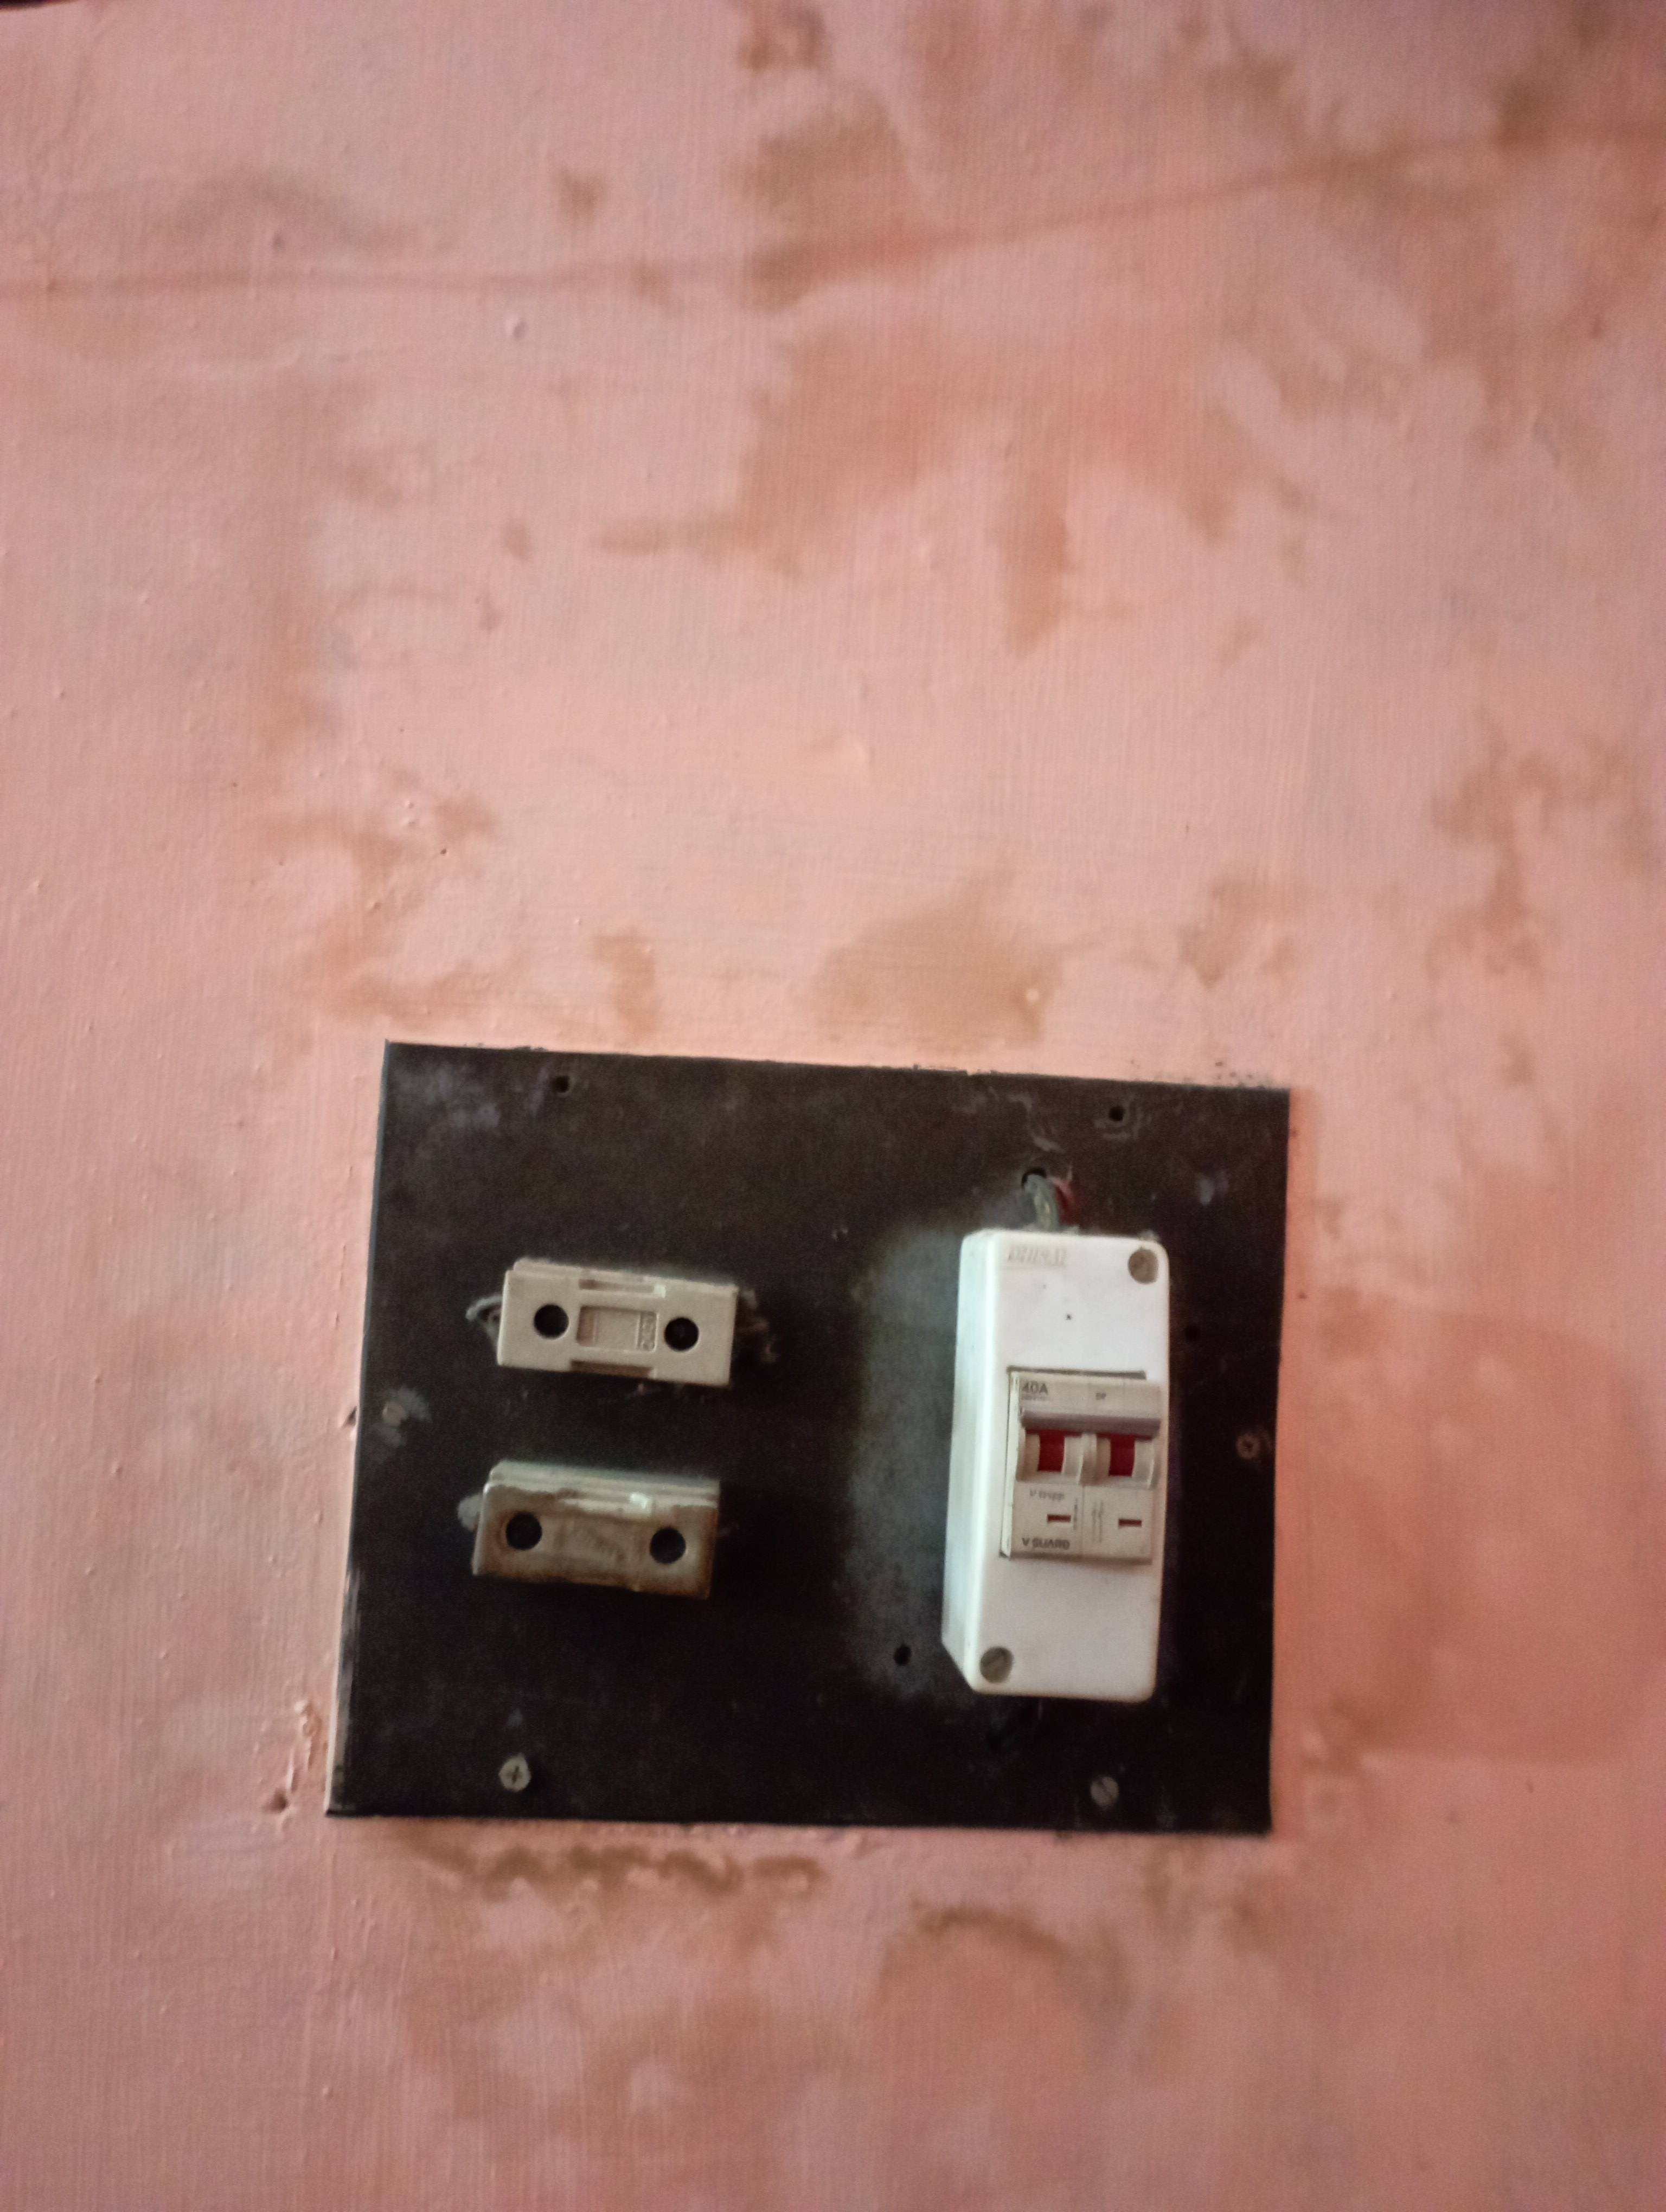ciruit_breaker: (912, 1212, 1181, 1710)
fuse: (450, 1243, 754, 1397), (462, 1446, 714, 1612)
